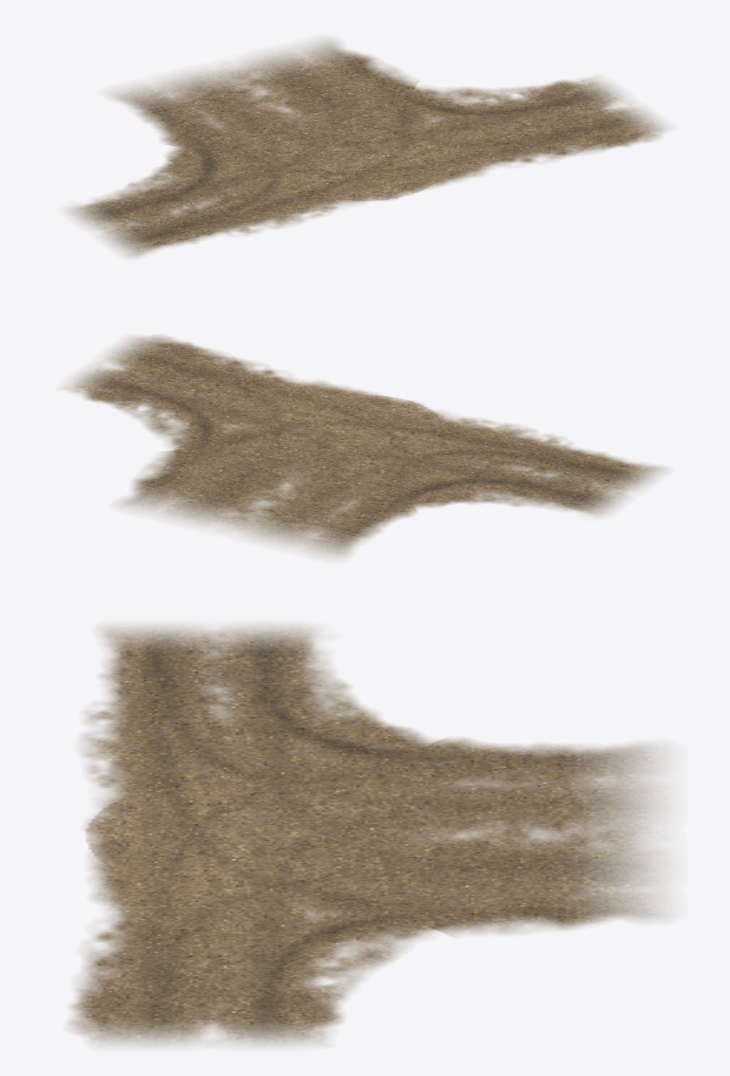
File: road_tee_drive_street.glb
3 views of the same model, one above another, from view 1: azimuth 30°, elevation 25°; view 2: azimuth 150°, elevation 25°; view 3: azimuth 270°, elevation 25° (orthographic). The views are drawn at different scales.
Parts seen in each view (by area): view 1: road_tee_drive_street; view 2: road_tee_drive_street; view 3: road_tee_drive_street.
Boxes of the visible parts, bbox=[...] form: road_tee_drive_street: bbox=[66, 39, 669, 257]; road_tee_drive_street: bbox=[63, 335, 666, 558]; road_tee_drive_street: bbox=[68, 625, 665, 1046].
Bounding box in the file's own units: 14.79 × 0 × 9.73.
Materials: 1 (1 with a texture image).
